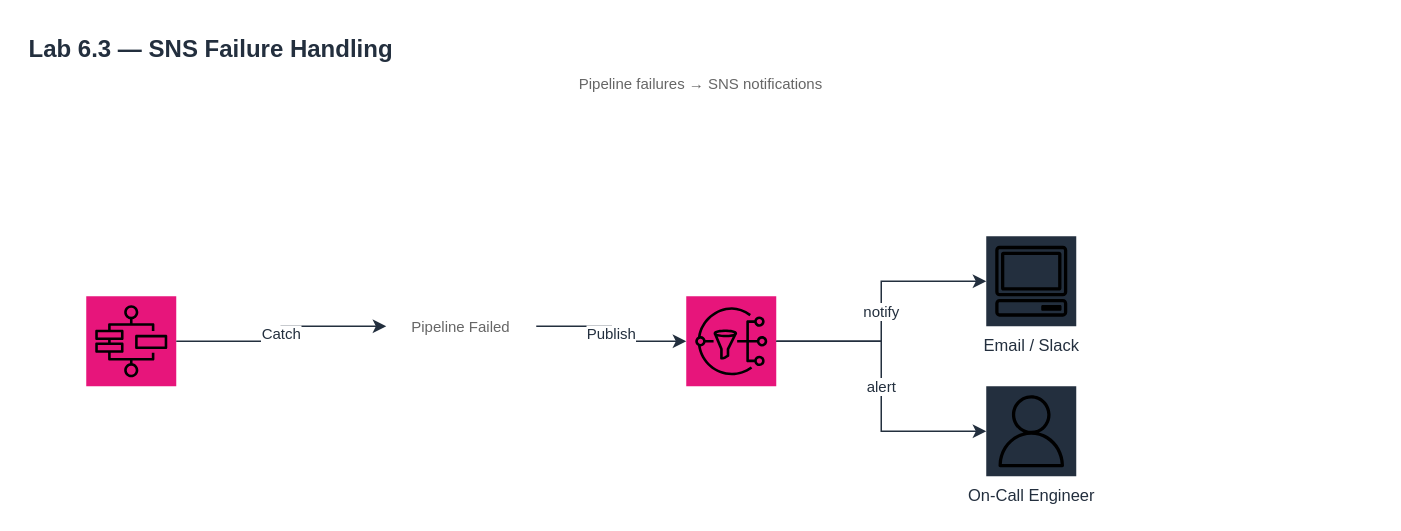
The diagram is 1401 pixels wide and 531 high, and some of its shapes have lost their labels. Here are the shapes that lost their labels. From the top down, the box of each, then its label:
(86, 296, 176, 386): Step Functions
(686, 296, 776, 386): Amazon SNS critical topic
